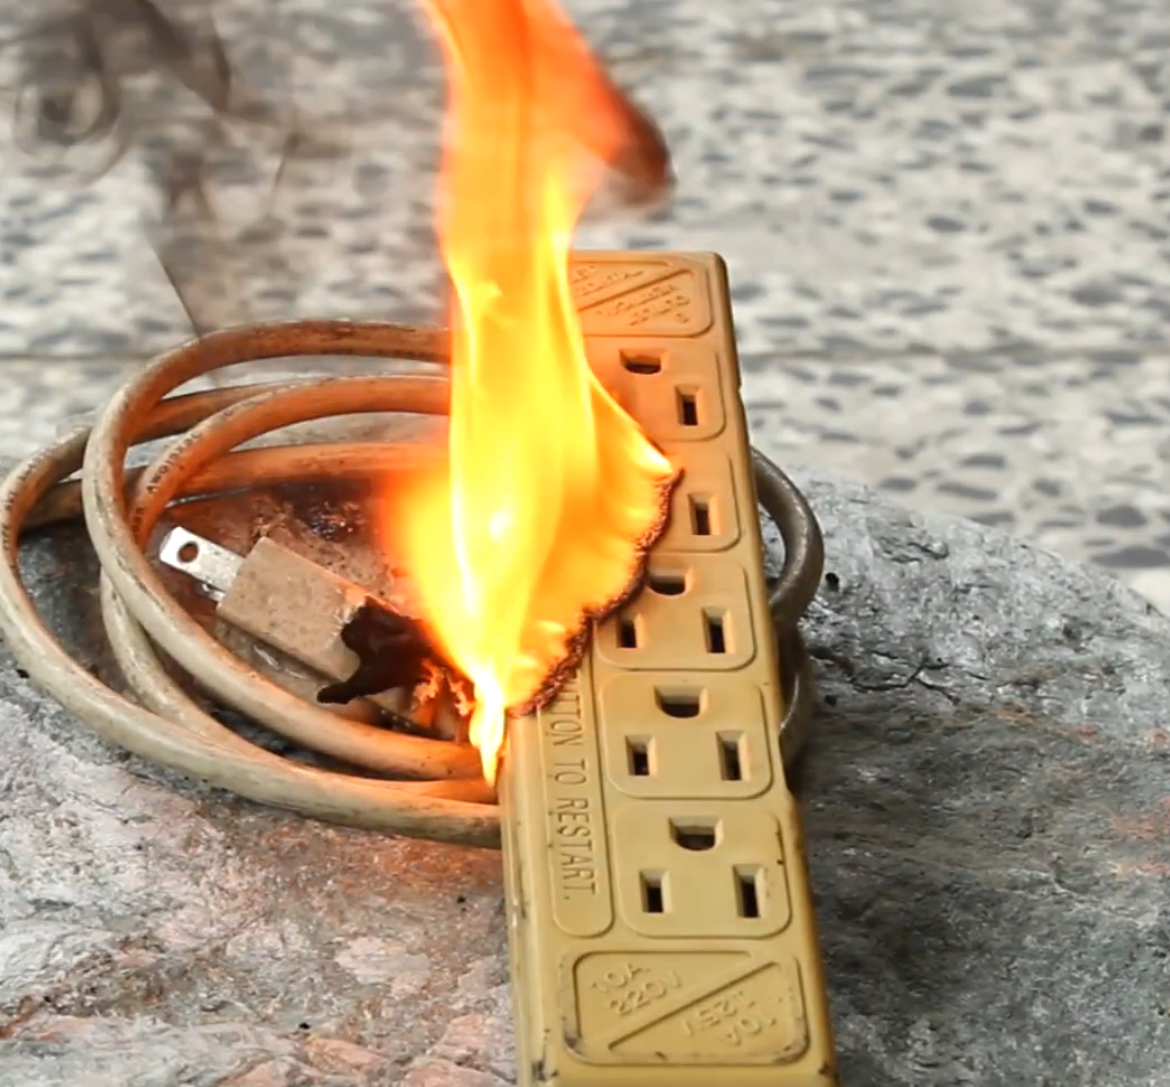Fire: (373, 1, 652, 797)
